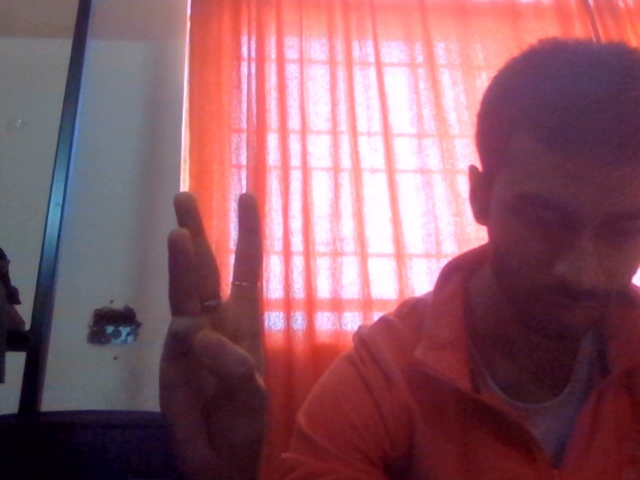W: (139, 178, 363, 480)
